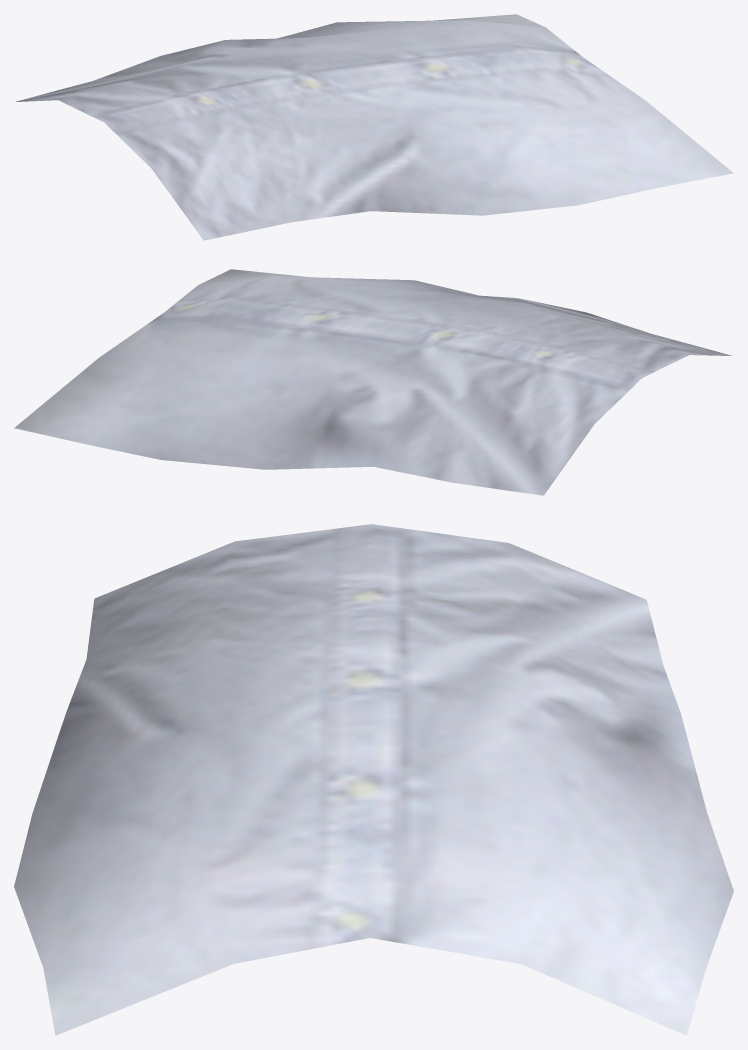
File: chest_solid.dae
The picture shows the model from 3 angles, top to bottom: view 1: azimuth 30°, elevation 25°; view 2: azimuth 150°, elevation 25°; view 3: azimuth 270°, elevation 25°; orthographic projection. The views are drawn at different scales.
Visible parts, largest first — view 1: victimChest_solid; view 2: victimChest_solid; view 3: victimChest_solid.
Part boxes in pixels (x1,y1,x2,y2): victimChest_solid: [15, 14, 733, 240]; victimChest_solid: [14, 269, 732, 495]; victimChest_solid: [14, 524, 733, 1035].
Size of the model in its own units: 0.3753 by 0.0676 by 0.3094.
1 material, 1 textured.
